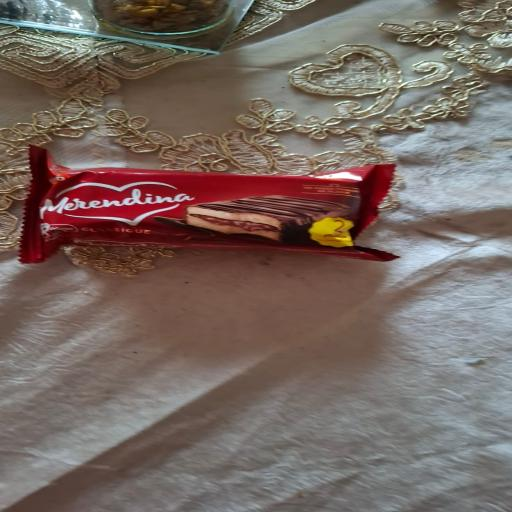merendina: (0, 136, 439, 297)
